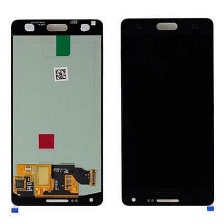phone: (8, 15, 105, 208), (119, 14, 215, 207)
